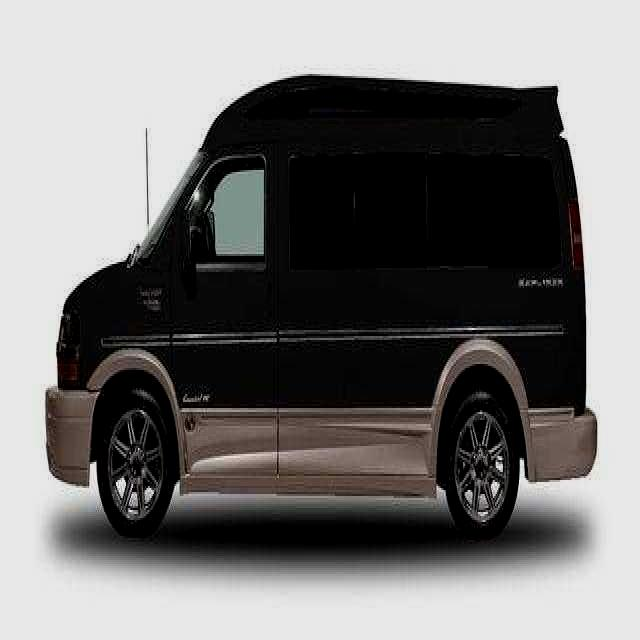Van: (44, 64, 601, 559)
